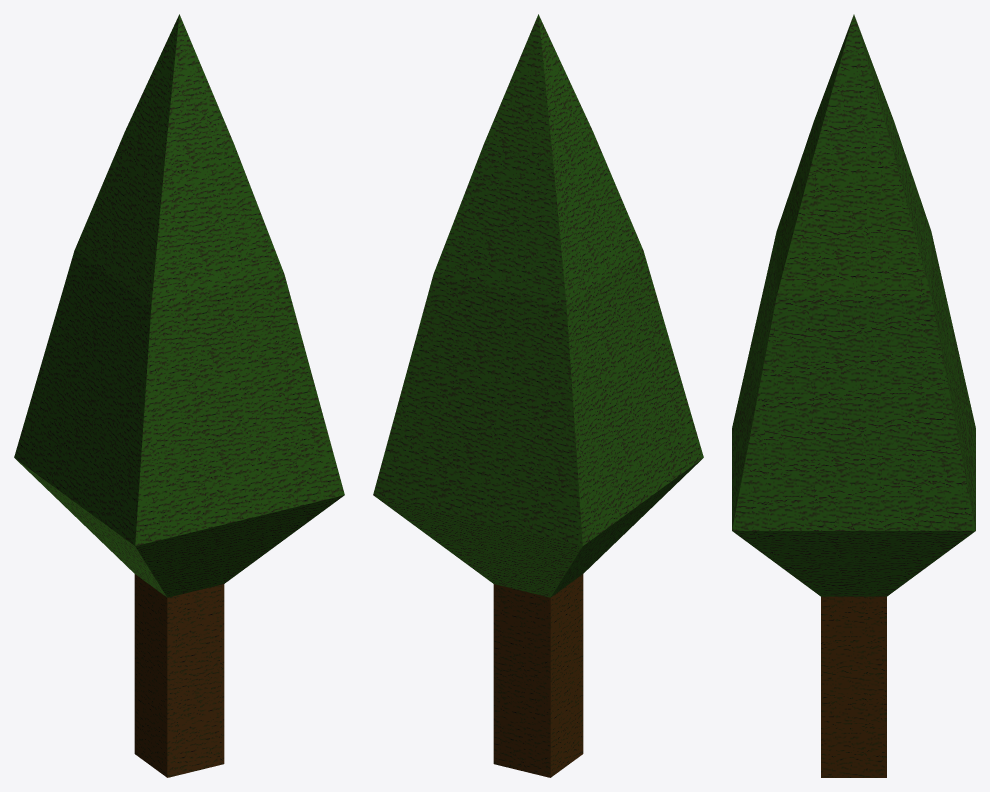
Rendered from Tree_005.fbx.
3 renders of one model, left to right at view 1: azimuth 30°, elevation 25°; view 2: azimuth 150°, elevation 25°; view 3: azimuth 270°, elevation 25°, orthographic.
Parts seen in each view (by area): view 1: Box001; view 2: Box001; view 3: Box001.
Boxes of the visible parts, left/top/right/bottom form: Box001: left=14, top=14, right=344, bottom=777; Box001: left=373, top=14, right=703, bottom=777; Box001: left=732, top=14, right=975, bottom=777.
Bounding box in the file's own units: 73.67 × 250 × 73.67.
Materials: 1 (1 with a texture image).
